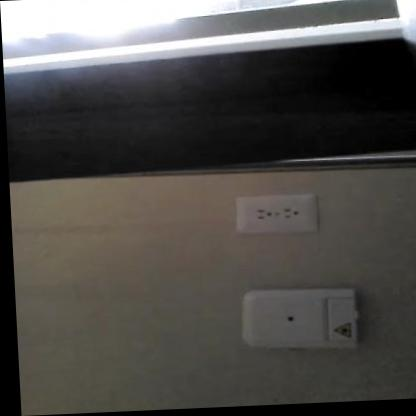OUTLET: (233, 192, 321, 234)
